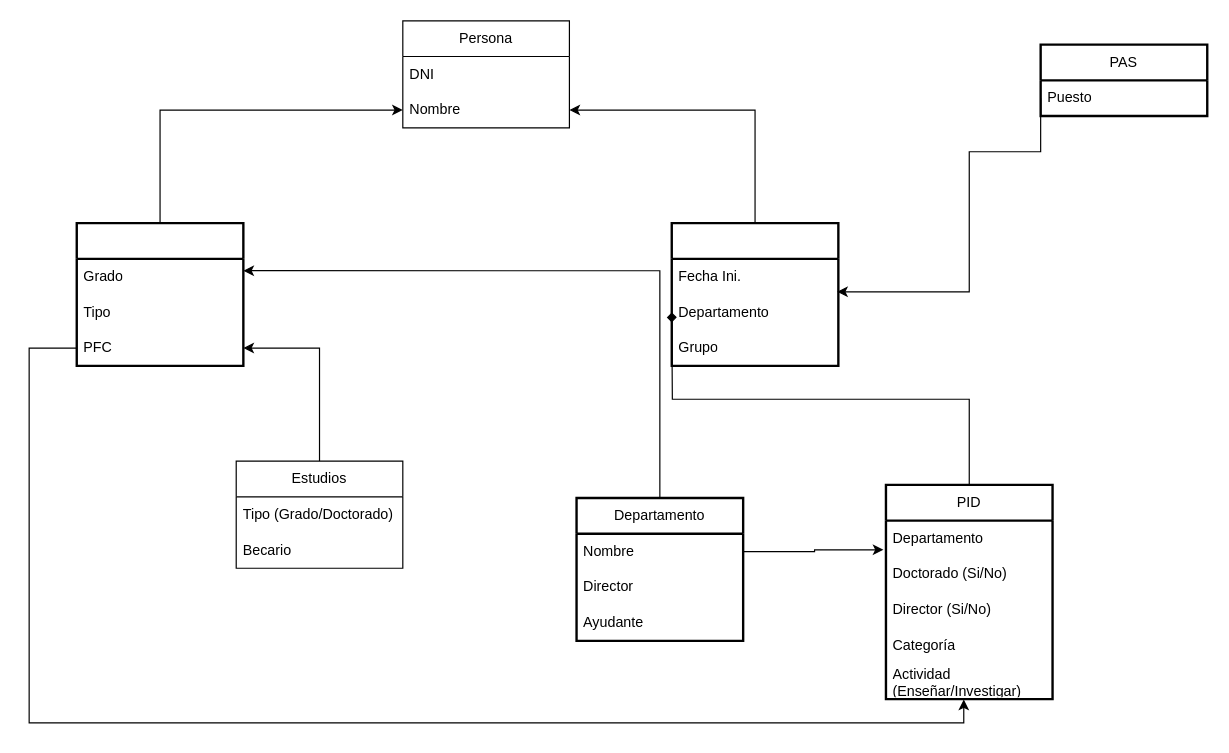
This 1229x753 diagram has some shape labels left out. Here are the shapes that lost their labels. From the top down, the box of each, then its label:
(75, 221, 244, 367): Estudiante
(670, 221, 839, 367): Trabajador
